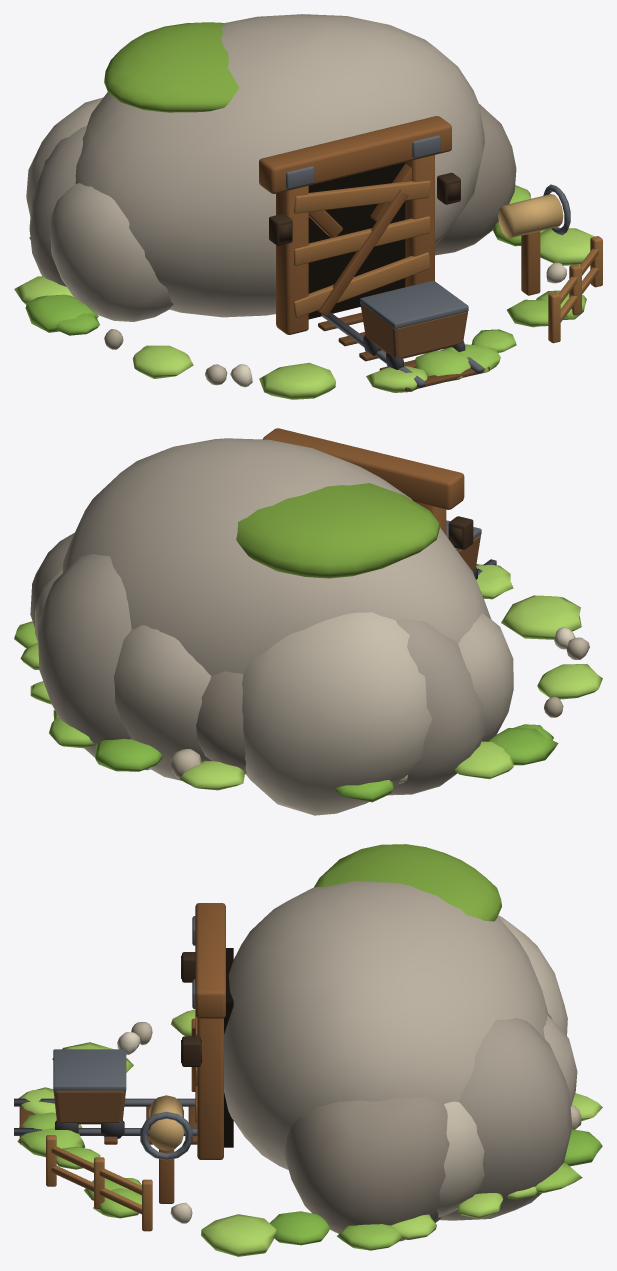
File: m_depleted.glb
The picture shows the model from 3 angles, top to bottom: view 1: azimuth 30°, elevation 25°; view 2: azimuth 150°, elevation 25°; view 3: azimuth 270°, elevation 25°; orthographic projection. The views are drawn at different scales.
Parts seen in each view (by area): view 1: root_matte#b4aa9a, root_matte#8a5a30, root_matte#9a6a3a, moss, root_matte#a8d060, mouthDark, root_matte#968c7e, root_metal#5e646c, root_matte#94c252, root_matte#a39a8c, cart, root_matte#7a4e2a (+7 smaller); view 2: root_matte#b4aa9a, root_matte#c2b8a6, root_matte#a39a8c, moss, root_matte#a8d060, root_matte#8a5a30, root_matte#968c7e, root_matte#7fb243, root_matte#94c252, root_matte#b8ad98, root_matte#3a2a1c; view 3: root_matte#b4aa9a, root_matte#968c7e, root_matte#a39a8c, root_matte#8a5a30, moss, root_matte#a8d060, root_matte#c2b8a6, root_matte#94c252, root_metal#5e646c, root_matte#9a6a3a, root_matte#7fb243, cart (+6 smaller).
Part boxes in pixels (box(x1,y1,x2,y2)): root_matte#b4aa9a: box(50, 14, 484, 321); root_matte#8a5a30: box(259, 116, 540, 334); root_matte#9a6a3a: box(293, 180, 602, 343); moss: box(104, 22, 239, 112); root_matte#a8d060: box(14, 228, 594, 399); mouthDark: box(308, 162, 405, 319); root_matte#968c7e: box(435, 104, 516, 255); root_metal#5e646c: box(286, 135, 570, 328); root_matte#94c252: box(415, 185, 586, 381); root_matte#a39a8c: box(29, 126, 86, 286); cart: box(360, 304, 467, 358); root_matte#7a4e2a: box(308, 163, 411, 316); root_matte#b4aa9a: box(62, 438, 513, 780); root_matte#c2b8a6: box(35, 569, 431, 815); root_matte#a39a8c: box(37, 554, 485, 795); moss: box(236, 483, 439, 578); root_matte#a8d060: box(20, 564, 602, 790); root_matte#8a5a30: box(263, 428, 464, 535); root_matte#968c7e: box(30, 533, 246, 774); root_matte#7fb243: box(95, 724, 558, 802); root_matte#94c252: box(14, 621, 93, 748); root_matte#b8ad98: box(171, 637, 589, 778); root_matte#3a2a1c: box(448, 516, 473, 549); root_matte#b4aa9a: box(224, 881, 577, 1169); root_matte#968c7e: box(284, 1014, 552, 1241); root_matte#a39a8c: box(440, 1018, 572, 1220); root_matte#8a5a30: box(159, 903, 225, 1203); moss: box(314, 844, 501, 921); root_matte#a8d060: box(18, 1009, 602, 1256); root_matte#c2b8a6: box(436, 915, 567, 1217); root_matte#94c252: box(17, 1112, 582, 1250); root_metal#5e646c: box(53, 916, 195, 1160); root_matte#9a6a3a: box(46, 1015, 197, 1231); root_matte#7fb243: box(270, 1129, 602, 1245); cart: box(53, 1090, 125, 1124).
Size of the model in its own units: 3.14 by 1.61 by 3.07.
